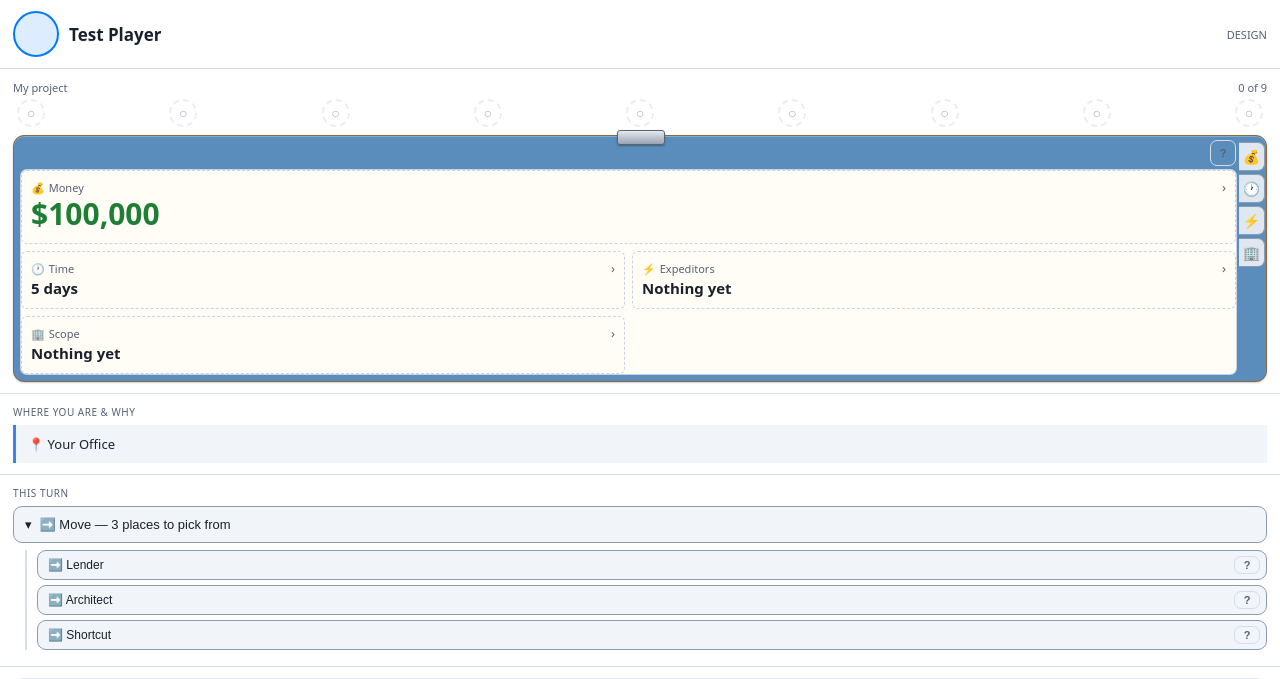
Test: PlayerPanelV2 — destination picker explains each option (TODO #6, "Your Office") › shows the grey context line alongside the why line
Click the button named "What's this? Architect".
click(1247, 600)  # box [1234, 591, 1260, 609]
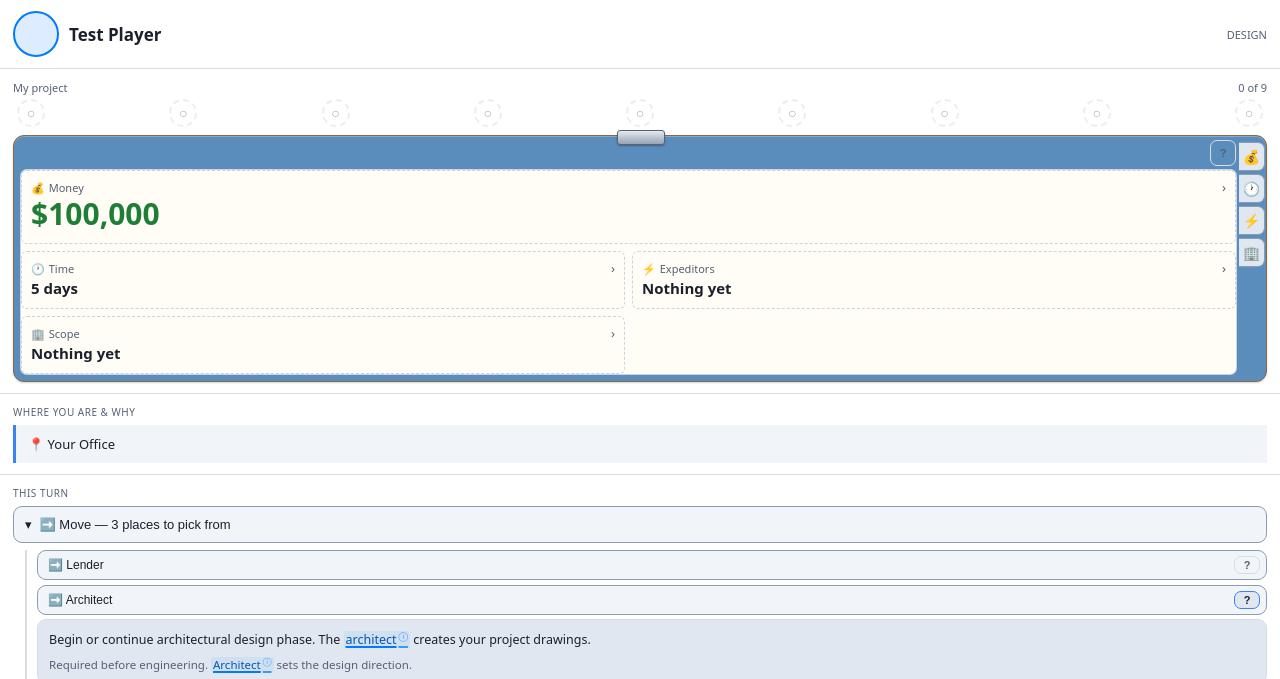
expect the text "Required before engineering" is shown: met, box [49, 657, 211, 672]
